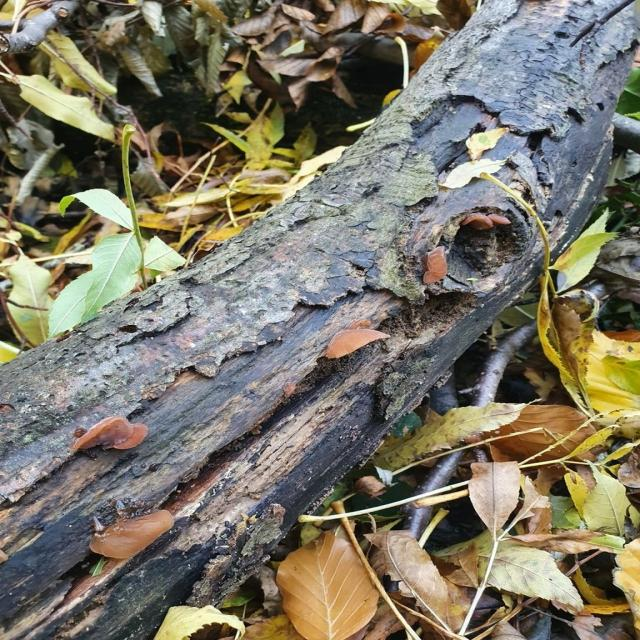Fase Muda: (87, 510, 180, 562), (319, 323, 393, 359)
primordia: (70, 416, 151, 452), (422, 236, 448, 286), (456, 216, 494, 235), (491, 213, 516, 225)
